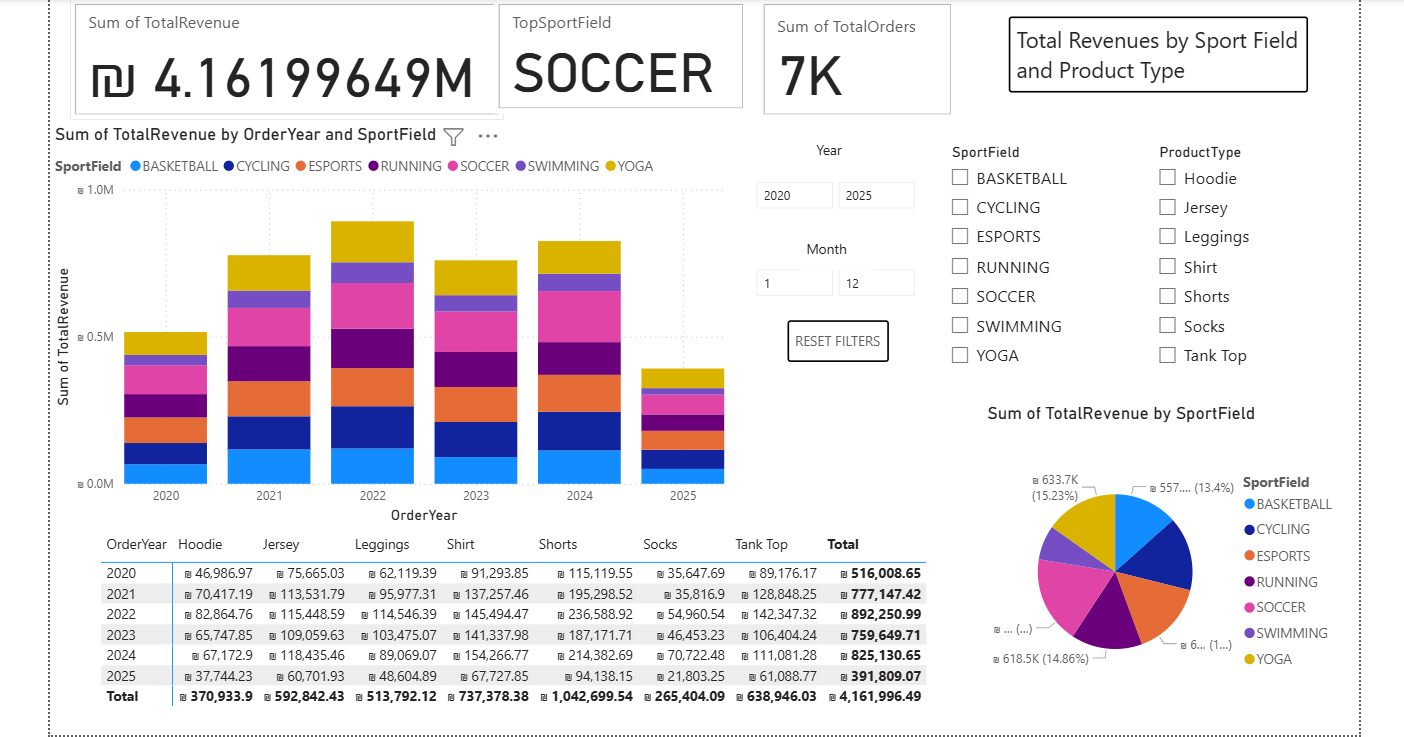

What the dashboard file says about the page in this screenshot:
{"tool":"powerbi","page":{"name":"Dashboard","canvas":[1280,720],"ordinal":1},"visuals":[{"type":"columnChart","fields":{"Y":["Sum(SportRevenue.TotalRevenue)"],"Series":["SportRevenue.SportField"],"Category":["SportRevenue.OrderYear","SportRevenue.QuarterLabel","SportRevenue.OrderMonth","SportRevenue.OrderDay"]},"box":[0,121.9,664.7,395.7],"z":0},{"type":"cardVisual","fields":{"Data":["Sum(SportRevenue.TotalRevenue)"]},"box":[19.3,0,424.7,118.2],"z":1000},{"type":"cardVisual","fields":{"Data":["SportRevenue.TopSportField"]},"box":[434.3,0,249.7,112.2],"z":2000},{"type":"cardVisual","fields":{"Data":["Sum(SportRevenue.TotalOrders)"]},"box":[693.7,0,193,118.2],"z":3000},{"type":"slicer","fields":{"Values":["SportRevenue.ProductType"]},"box":[1072.5,136.3,195.4,236.5],"z":4000},{"type":"slicer","fields":{"Values":["SportRevenue.SportField"]},"box":[869.8,136.3,193,258.2],"z":5000},{"type":"actionButton","box":[721,313.9,98.9,41],"z":6000},{"type":"textbox","box":[937.4,16.9,293.2,74.8],"z":7000},{"type":"pivotTable","fields":{"Rows":["SportRevenue.OrderYear"],"Columns":["SportRevenue.ProductType"],"Values":["Sum(SportRevenue.TotalRevenue)"]},"box":[44.6,517.6,825.2,202.7],"z":8000},{"type":"pieChart","fields":{"Category":["SportRevenue.SportField"],"Y":["Sum(SportRevenue.TotalRevenue)"]},"box":[912.1,394.5,355.9,310.1],"z":9000},{"type":"slicer","fields":{"Values":["SportRevenue.OrderYear"]},"box":[679.2,168.9,181,42.2],"z":11000},{"type":"slicer","fields":{"Values":["SportRevenue.OrderMonth"]},"box":[679.2,254.6,177.3,39.8],"z":11001},{"type":"textbox","box":[745.1,132.9,53.1,36.2],"z":11002},{"type":"textbox","box":[735.4,229.5,70,36.2],"z":11003}]}

Visuals, with their boxes on the page's 1280x720 design canvas (x1, y1, x2, y2). These are canvas units, not pixel positions in the 1404x737 screenshot, which may show the page scaled, cropped or inside an application window:
columnChart - Sum(SportRevenue.TotalRevenue) x SportRevenue.SportField: {"left": 0, "top": 122, "right": 665, "bottom": 518}
cardVisual - Sum(SportRevenue.TotalRevenue): {"left": 19, "top": 0, "right": 444, "bottom": 118}
cardVisual - SportRevenue.TopSportField: {"left": 434, "top": 0, "right": 684, "bottom": 112}
cardVisual - Sum(SportRevenue.TotalOrders): {"left": 694, "top": 0, "right": 887, "bottom": 118}
slicer - SportRevenue.ProductType: {"left": 1072, "top": 136, "right": 1268, "bottom": 373}
slicer - SportRevenue.SportField: {"left": 870, "top": 136, "right": 1063, "bottom": 394}
actionButton: {"left": 721, "top": 314, "right": 820, "bottom": 355}
textbox: {"left": 937, "top": 17, "right": 1231, "bottom": 92}
pivotTable - SportRevenue.OrderYear x SportRevenue.ProductType: {"left": 45, "top": 518, "right": 870, "bottom": 720}
pieChart - SportRevenue.SportField x Sum(SportRevenue.TotalRevenue): {"left": 912, "top": 394, "right": 1268, "bottom": 705}
slicer - SportRevenue.OrderYear: {"left": 679, "top": 169, "right": 860, "bottom": 211}
slicer - SportRevenue.OrderMonth: {"left": 679, "top": 255, "right": 856, "bottom": 294}
textbox: {"left": 745, "top": 133, "right": 798, "bottom": 169}
textbox: {"left": 735, "top": 230, "right": 805, "bottom": 266}
